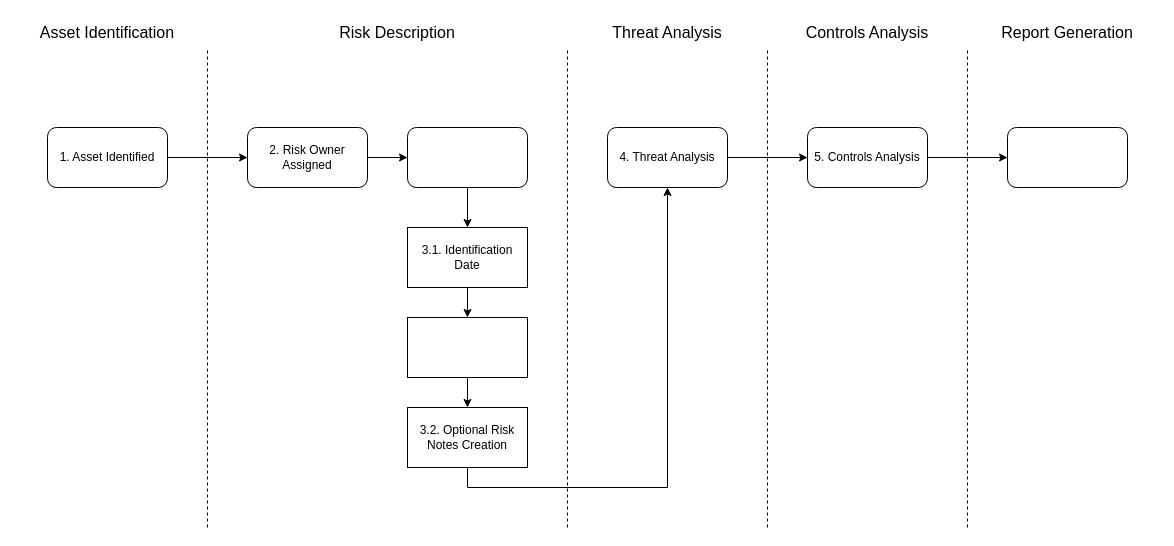
This 1174x546 diagram has some shape labels left out. Each missing label, with the centre of its shape:
"3. Risk Description" goes at pixel 467 157.
"3.2. Review Date" goes at pixel 467 347.
"6. Report Generation" goes at pixel 1067 157.
